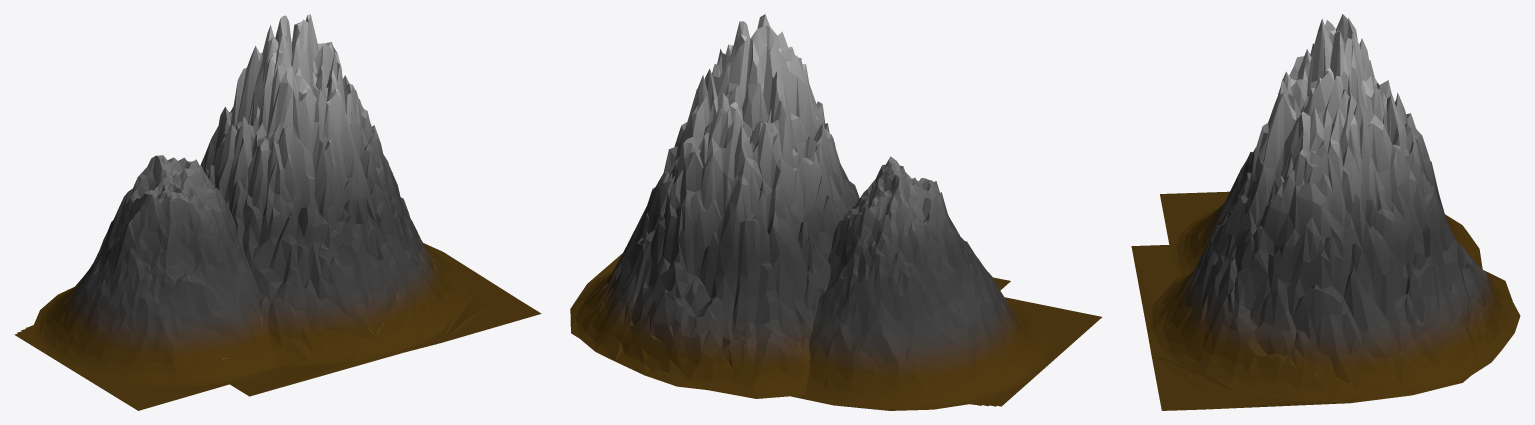
File: Mountain.fbx
3 views of the same model, side by side, from view 1: azimuth 30°, elevation 25°; view 2: azimuth 150°, elevation 25°; view 3: azimuth 270°, elevation 25° (orthographic). The views are drawn at different scales.
Visible parts, largest first — view 1: Landscape; view 2: Landscape; view 3: Landscape.
Part boxes in pixels (left/top/right/bottom): Landscape: left=14, top=14, right=541, bottom=410; Landscape: left=570, top=14, right=1101, bottom=410; Landscape: left=1131, top=14, right=1520, bottom=410.
Size of the model in its own units: 1054 by 674 by 779.
Materials: 1 (1 with a texture image).
